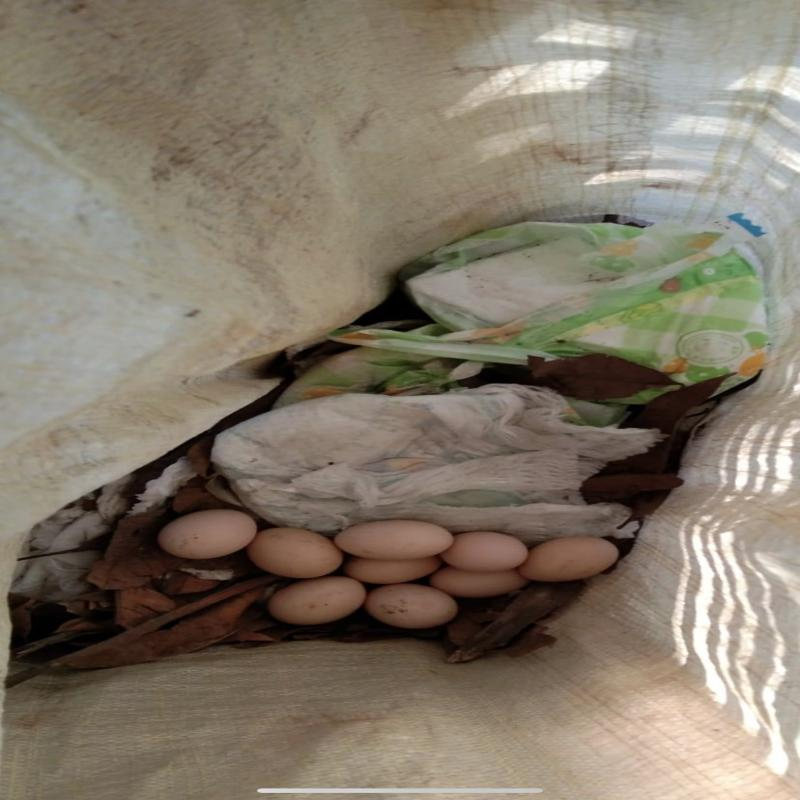egg shell: (157, 509, 258, 560), (245, 528, 344, 579), (333, 520, 455, 561), (269, 576, 366, 626), (519, 536, 620, 582), (364, 583, 458, 629), (440, 531, 528, 571), (428, 567, 531, 599), (343, 555, 443, 584)
treeleaves: (4, 575, 292, 689), (437, 581, 588, 664), (86, 508, 185, 591), (113, 589, 191, 634)
